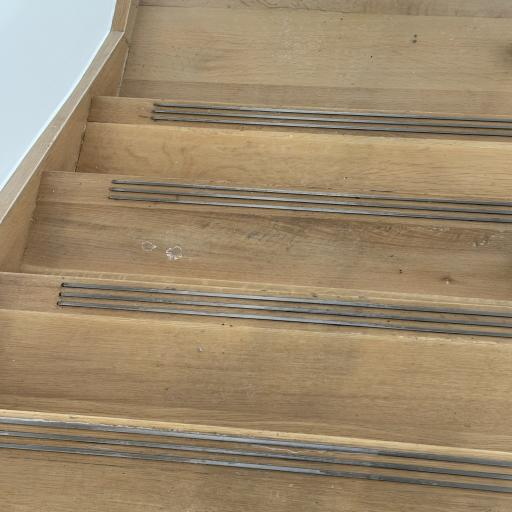Stairs: (0, 97, 512, 512)
